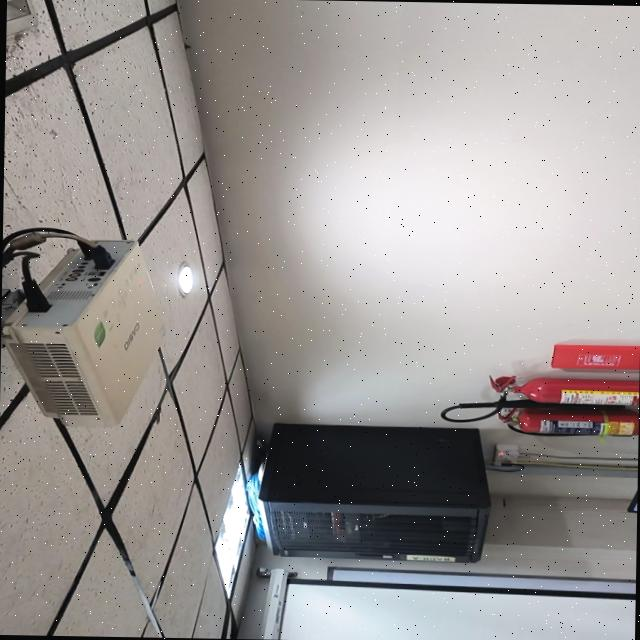Fire Extinguisher: (490, 377, 639, 405), (497, 408, 638, 436)
Light: (213, 466, 248, 596), (176, 264, 192, 294)
Monitor: (625, 486, 637, 513)
Projector: (0, 240, 161, 426)
